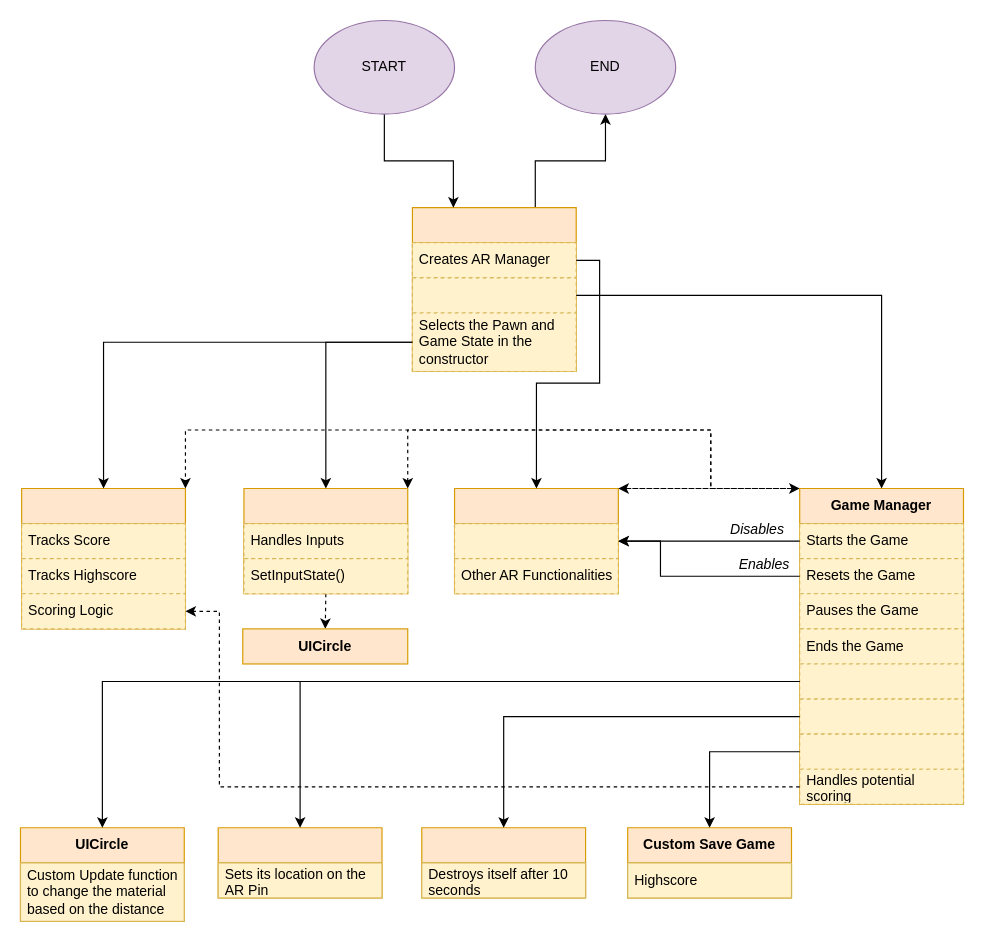
Some shapes in this 984 by 942 pixel diagram are drawn without their labels. Each missing label, with the box of its shape:
AR Manager: (453, 487, 618, 594)
ARPlanes Tracking: (453, 522, 618, 559)
Creates Game Manager: (411, 277, 576, 313)
Custom Game Mode: (411, 207, 576, 371)
Game State: (20, 487, 185, 629)
Pawn: (243, 487, 408, 594)
Placeable Actor: (217, 827, 382, 898)
Saves and loads the Highscore on the device: (799, 733, 963, 769)
Shootable Actor: (421, 827, 586, 898)
Spawns and shoots Basketballs: (799, 698, 963, 734)
Traces and places the Hoop: (799, 663, 963, 699)
